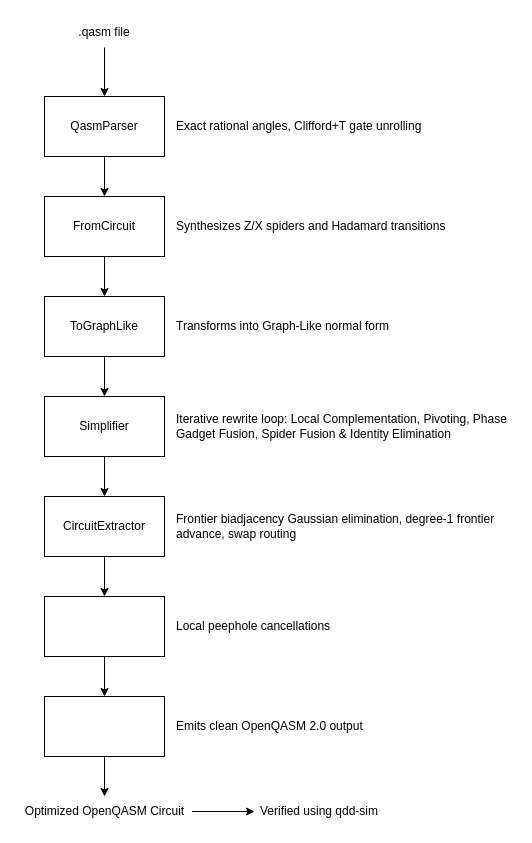
Some shapes in this 532 by 843 pixel diagram are drawn without their labels. The shapes that lost their labels are listed below. From the top down, each one's centre as x and y in pixels, then its label:
At point 104,626: "PostOptimizer".
At point 104,726: "QasmWriter".
